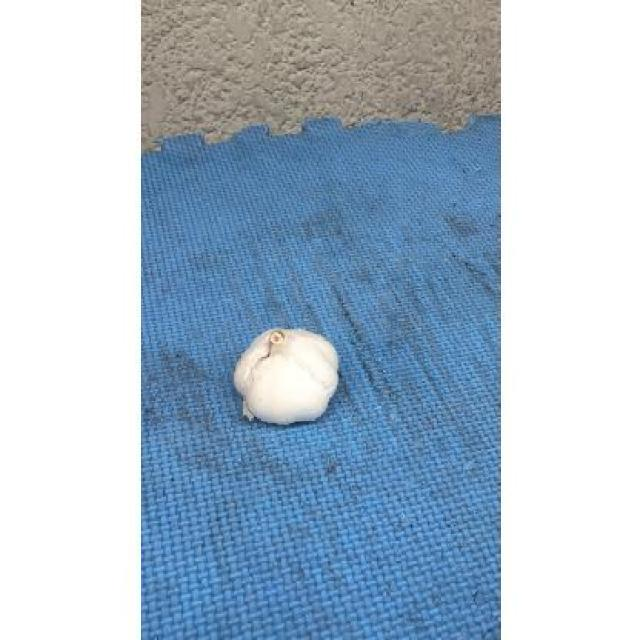Garlic: (221, 316, 364, 442)
